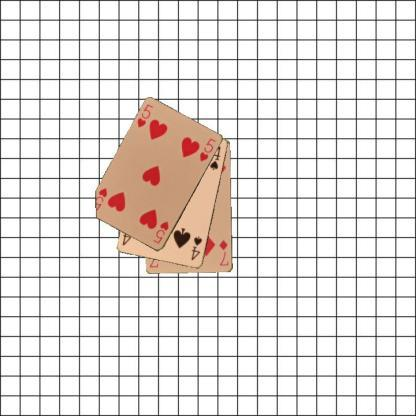4s: (188, 234, 204, 262)
5h: (134, 102, 154, 129), (151, 219, 170, 245)
7d: (216, 237, 231, 266)
